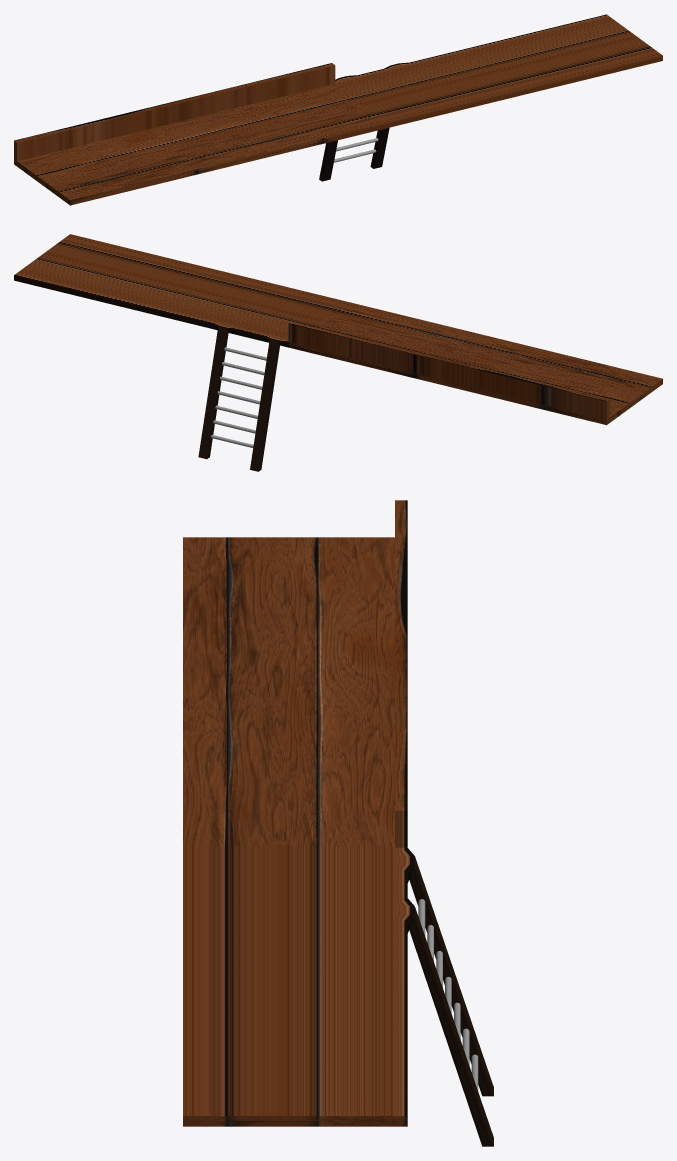
Rendered from topfloor.glb.
3 views of the same model, one above another, from view 1: azimuth 30°, elevation 25°; view 2: azimuth 150°, elevation 25°; view 3: azimuth 270°, elevation 25° (orthographic). The views are drawn at different scales.
Visible parts, largest first — view 1: 2nd floor; view 2: 2nd floor; view 3: 2nd floor.
Part boxes in pixels (left/top/right/bottom): 2nd floor: left=14, top=14, right=662, bottom=205; 2nd floor: left=14, top=234, right=662, bottom=471; 2nd floor: left=183, top=500, right=493, bottom=1146.
Bounding box in the file's own units: 178 × 38.5 × 40.4.
2 materials, 1 textured.
